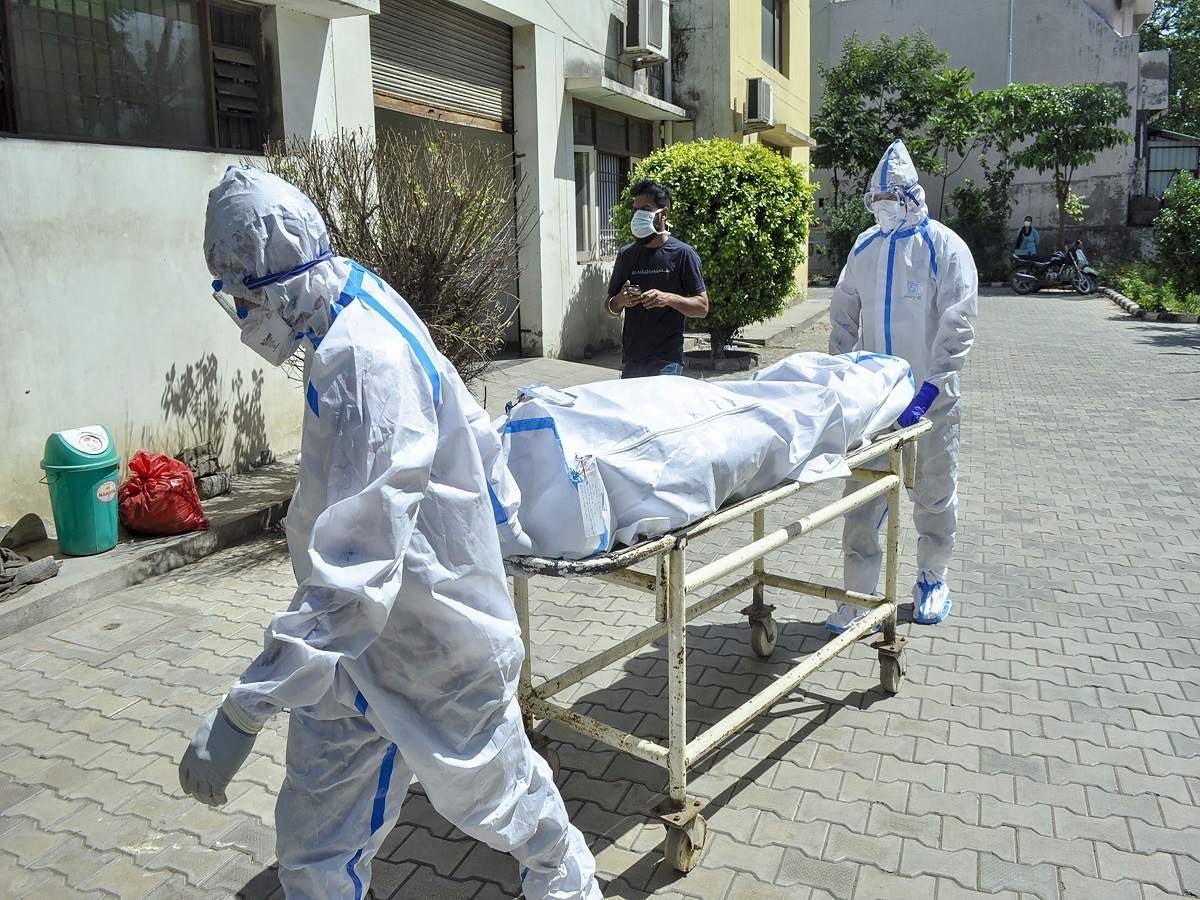Coverall: (273, 258, 510, 900), (837, 159, 969, 354)
Gloves: (171, 707, 255, 814)
Goggles: (863, 185, 908, 212)
with_mask: (632, 212, 663, 238)
